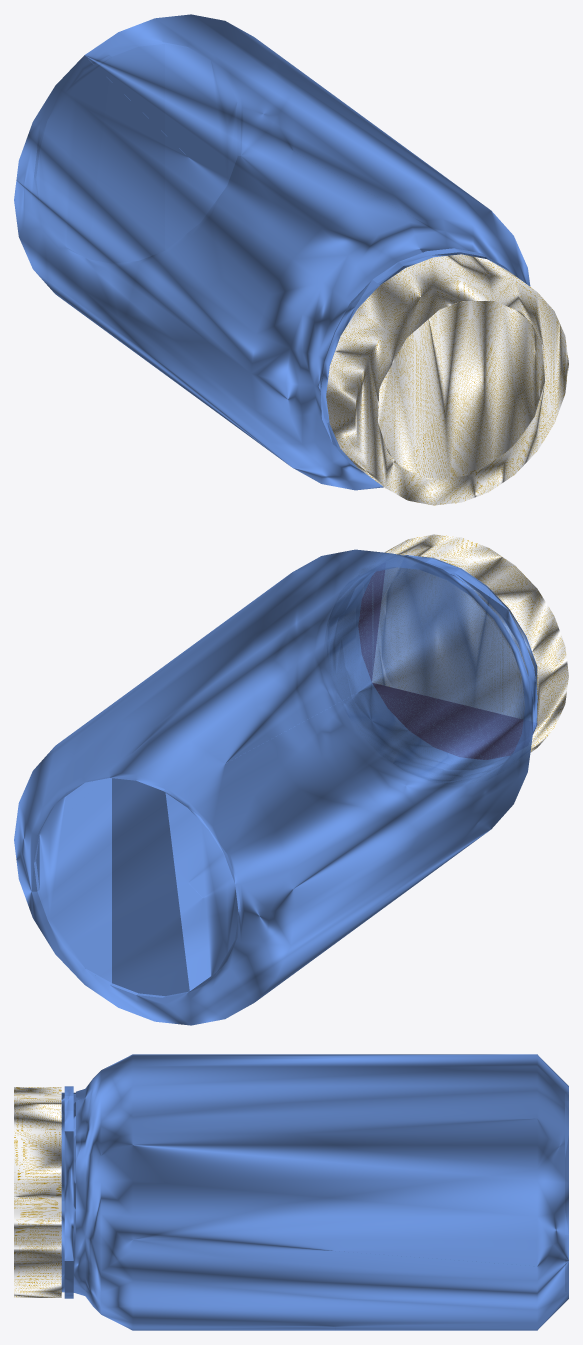
File: model_align.obj
3 renders of one model, top to bottom at view 1: azimuth 30°, elevation 25°; view 2: azimuth 150°, elevation 25°; view 3: azimuth 270°, elevation 25°, orthographic. The views are drawn at different scales.
Size of the model in its own units: 0.07 by 0.07 by 0.1401.
